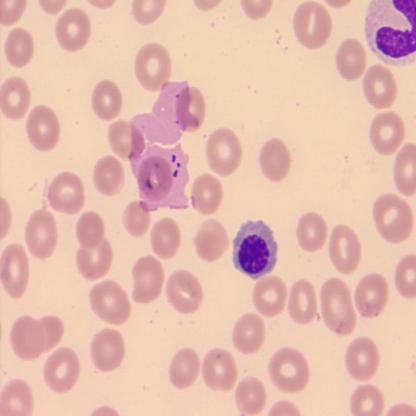NRC: (230, 217, 281, 282)
